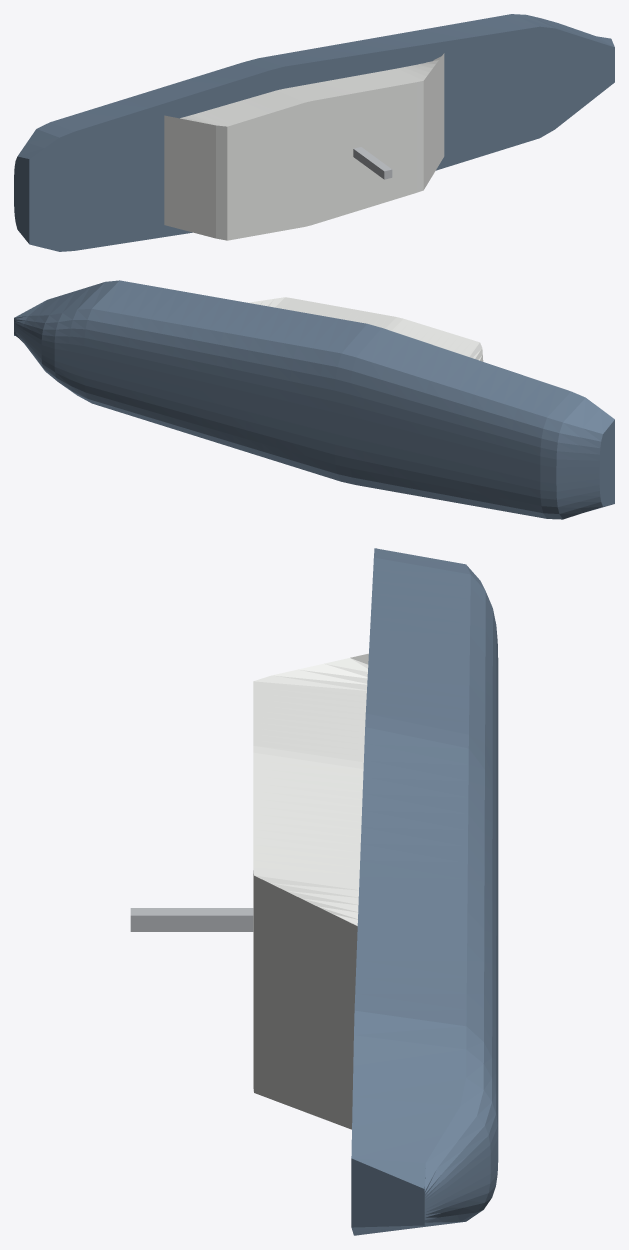
File: power-small-loft.glb
The picture shows the model from 3 angles, top to bottom: view 1: azimuth 30°, elevation 25°; view 2: azimuth 150°, elevation 25°; view 3: azimuth 270°, elevation 25°; orthographic projection. The views are drawn at different scales.
Parts seen in each view (by area): view 1: power-small; view 2: power-small; view 3: power-small.
Boxes of the visible parts, box(x1,y1,x2,y2) form: power-small: box(14, 14, 614, 251); power-small: box(14, 280, 614, 519); power-small: box(130, 548, 498, 1235).
Size of the model in its own units: 1.8 by 0.4377 by 0.4865.
